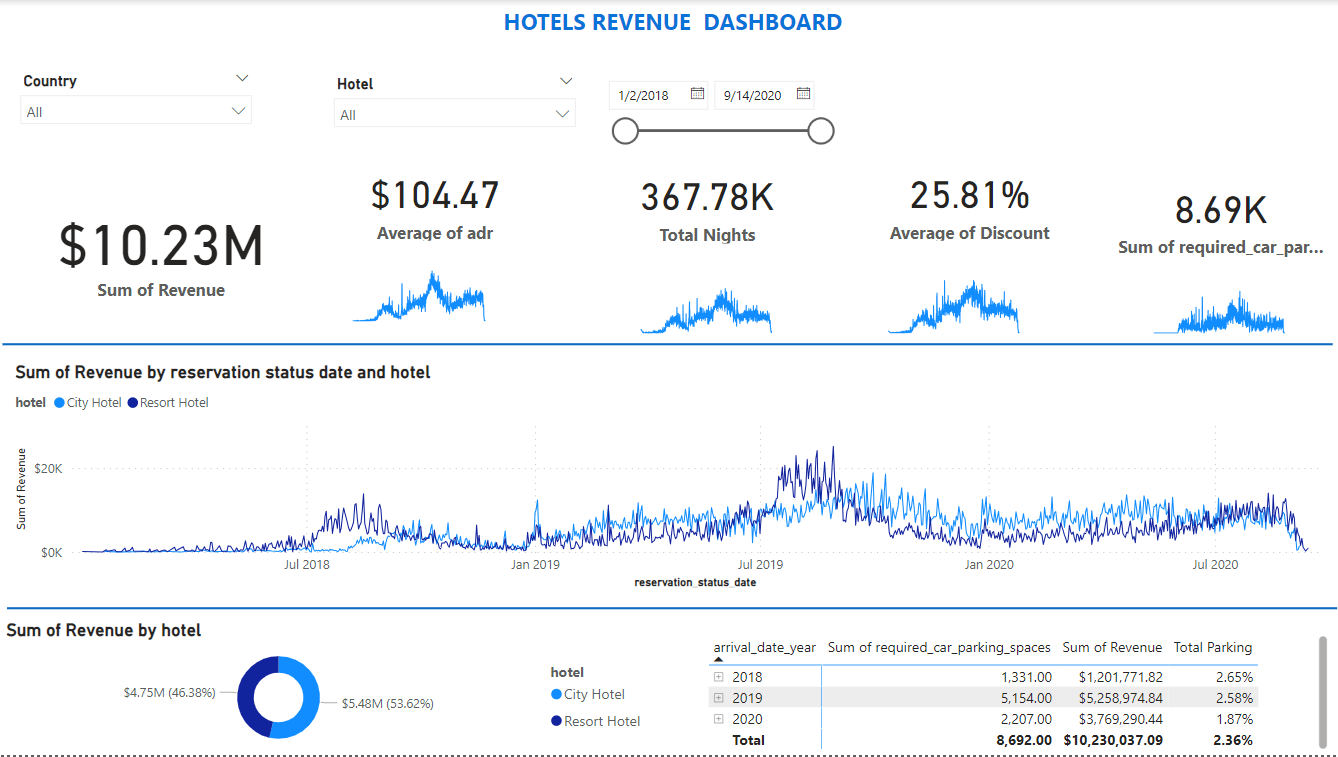

The page's visual inventory and layout, read from the dashboard file:
{"tool":"powerbi","page":{"name":"Page 1","canvas":[1280,720],"ordinal":0},"visuals":[{"type":"shape","box":[4.3,188.9,1269.7,279.1],"z":0},{"type":"shape","box":[8.6,440.9,1269.7,279.1],"z":1000},{"type":"card","fields":{"Values":["Sum(Query1.Revenue)"]},"box":[11.5,151.7,287.7,171.8],"z":2000},{"type":"card","fields":{"Values":["Avg(Query1.adr)"]},"box":[310.6,151.7,211.8,83],"z":3000},{"type":"card","fields":{"Values":["Query1.Total Nights"]},"box":[569.7,151.7,213.3,85.9],"z":4000},{"type":"card","fields":{"Values":["Avg(Query1.Discount)"]},"box":[817.3,151.7,219,83],"z":5000},{"type":"lineChart","title":"Sum of Revenue by reservation status date and hotel","fields":{"Category":["Query1.reservation_status_date"],"Series":["Query1.hotel"],"Y":["Sum(Query1.Revenue)"]},"box":[11.5,345,1265.4,220.4],"z":6000},{"type":"slicer","fields":{"Values":["Query1.country"]},"box":[11.5,63,240.5,88.7],"z":7000},{"type":"slicer","fields":{"Values":["Query1.hotel"]},"box":[310.6,65.8,250.5,83],"z":8000},{"type":"lineChart","fields":{"Category":["Query1.reservation_status_date"],"Y":["Sum(Query1.adr)"]},"box":[323.5,237.6,156,74.4],"z":9000},{"type":"lineChart","fields":{"Category":["Query1.reservation_status_date"],"Y":["Query1.Total Nights"]},"box":[598.3,249.1,154.6,74.4],"z":10000},{"type":"lineChart","fields":{"Category":["Query1.reservation_status_date"],"Y":["Sum(Query1.Discount)"]},"box":[834.5,249.1,154.6,74.4],"z":11000},{"type":"card","fields":{"Values":["Sum(Query1.required_car_parking_spaces)"]},"box":[1059.2,151.7,214.7,110.2],"z":12000},{"type":"lineChart","fields":{"Category":["Query1.reservation_status_date"],"Y":["Sum(Query1.required_car_parking_spaces)"]},"box":[1087.9,249.1,154.6,74.4],"z":13000},{"type":"donutChart","fields":{"Category":["Query1.hotel"],"Y":["Sum(Query1.Revenue)"]},"box":[2.9,591.2,624.1,128.8],"z":14000},{"type":"pivotTable","fields":{"Rows":["Query1.arrival_date_year","Query1.hotel"],"Values":["Sum(Query1.required_car_parking_spaces)","Sum(Query1.Revenue)","Query1.Total Parking"]},"box":[672.8,601.2,601.2,118.8],"z":15000},{"type":"slicer","fields":{"Values":["Query1.reservation_status_date"]},"box":[569.7,67.3,236.2,78.7],"z":16000},{"type":"textbox","box":[8.6,0,1265.4,63],"z":16001}]}

Visuals, with their boxes in screenshot pixels (x1, y1, x2, y2), scaled from the page's 1280x720 canvas onto the 1338x757 screenshot:
shape: 4/199/1332/492
shape: 9/464/1336/756
card - Sum(Query1.Revenue): 12/159/313/340
card - Avg(Query1.adr): 325/159/546/247
card - Query1.Total Nights: 596/159/818/250
card - Avg(Query1.Discount): 854/159/1083/247
"Sum of Revenue by reservation status date and hotel" lineChart: 12/363/1335/594
slicer - Query1.country: 12/66/263/159
slicer - Query1.hotel: 325/69/587/156
lineChart - Query1.reservation_status_date x Sum(Query1.adr): 338/250/501/328
lineChart - Query1.reservation_status_date x Query1.Total Nights: 625/262/787/340
lineChart - Query1.reservation_status_date x Sum(Query1.Discount): 872/262/1034/340
card - Sum(Query1.required_car_parking_spaces): 1107/159/1332/275
lineChart - Query1.reservation_status_date x Sum(Query1.required_car_parking_spaces): 1137/262/1299/340
donutChart - Query1.hotel x Sum(Query1.Revenue): 3/622/655/756
pivotTable - Query1.arrival_date_year x Query1.hotel: 703/632/1332/756
slicer - Query1.reservation_status_date: 596/71/842/154
textbox: 9/0/1332/66
